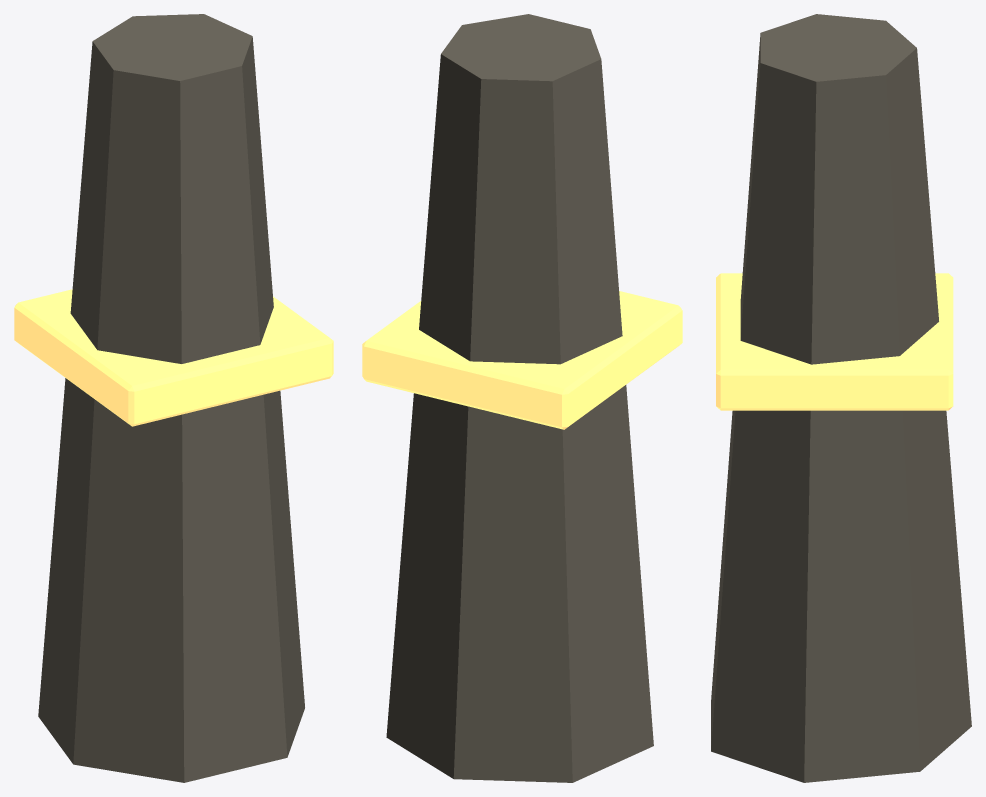
The model's file is prp_waystone.glb.
3 views of the same model, side by side, from view 1: azimuth 30°, elevation 25°; view 2: azimuth 150°, elevation 25°; view 3: azimuth 270°, elevation 25° (orthographic).
Visible parts, largest first — view 1: prp_waystone; view 2: prp_waystone; view 3: prp_waystone.
Boxes of the visible parts, <box> form: prp_waystone: <box>14,14,333,782</box>; prp_waystone: <box>362,14,682,782</box>; prp_waystone: <box>711,14,971,782</box>.
Size of the model in its own units: 1.07 by 3 by 1.05.
